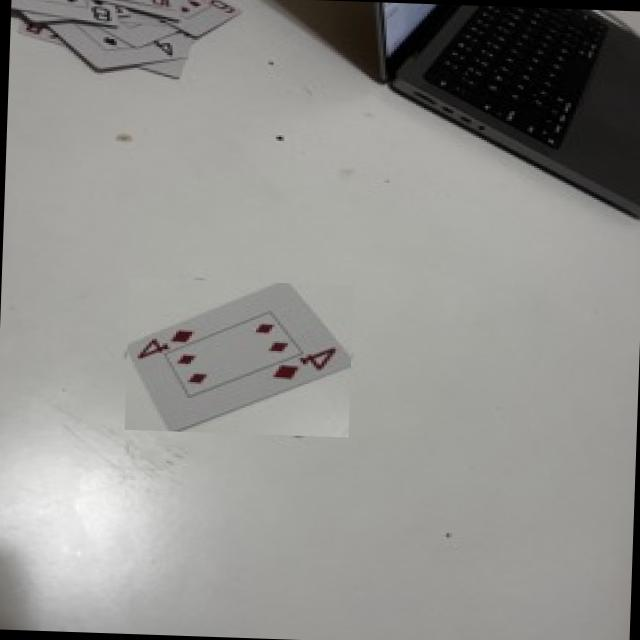4 of diamonds: (127, 282, 350, 431)
